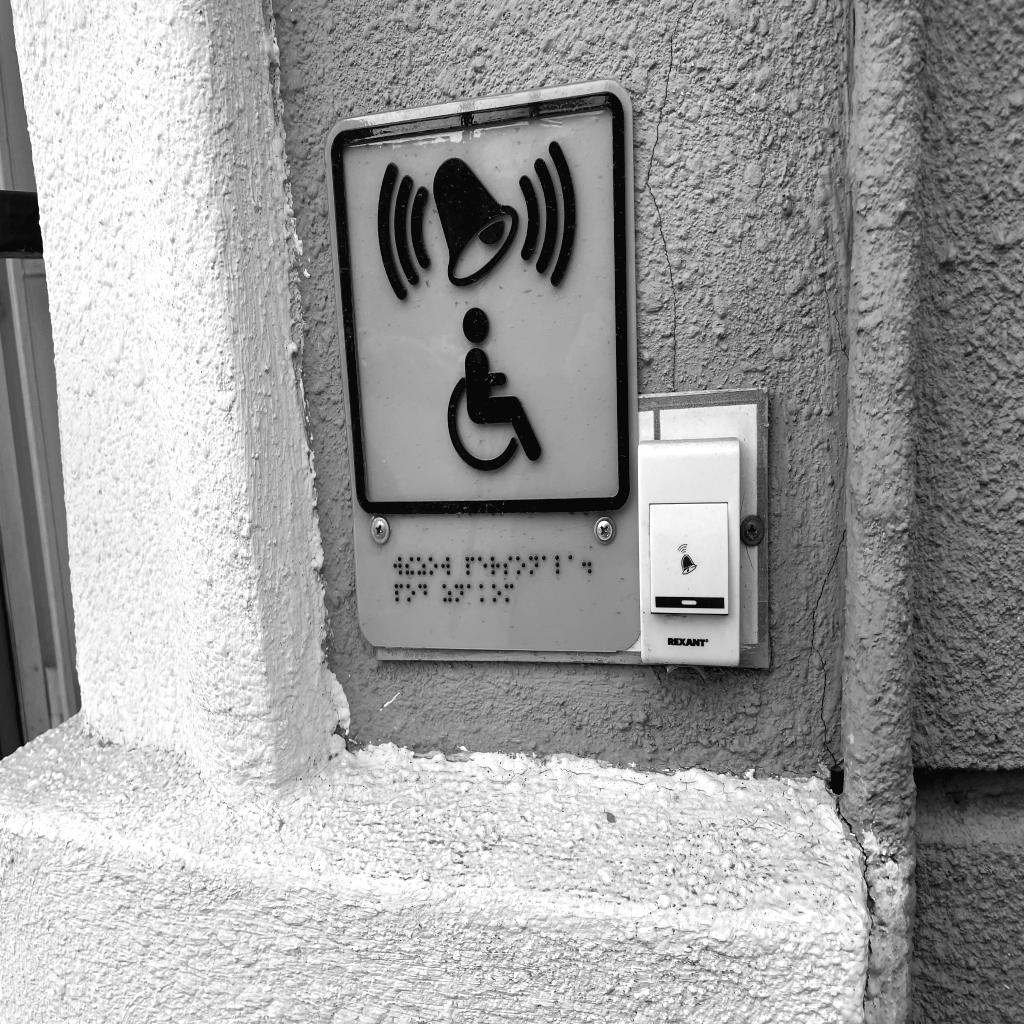_n: (528, 555, 539, 575), (454, 583, 464, 603)
a: (568, 554, 578, 575), (542, 555, 552, 575), (467, 583, 476, 602)
d: (418, 583, 427, 602)
e: (478, 556, 487, 576)
ii: (405, 556, 414, 575)
k: (479, 583, 489, 603)
l: (555, 554, 566, 575)
m: (504, 583, 514, 603)
o: (516, 555, 526, 575), (492, 583, 501, 603), (429, 556, 438, 575), (406, 583, 415, 602)
p: (465, 556, 475, 576), (395, 583, 404, 602)
r: (490, 556, 500, 576)
s: (504, 556, 513, 576)
tochka: (581, 553, 592, 574)
v: (393, 556, 402, 575), (441, 556, 450, 575)
z: (442, 583, 452, 603), (416, 556, 426, 575)
